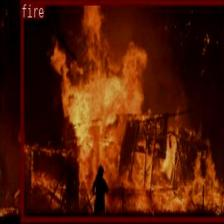fire: (20, 0, 223, 220)
